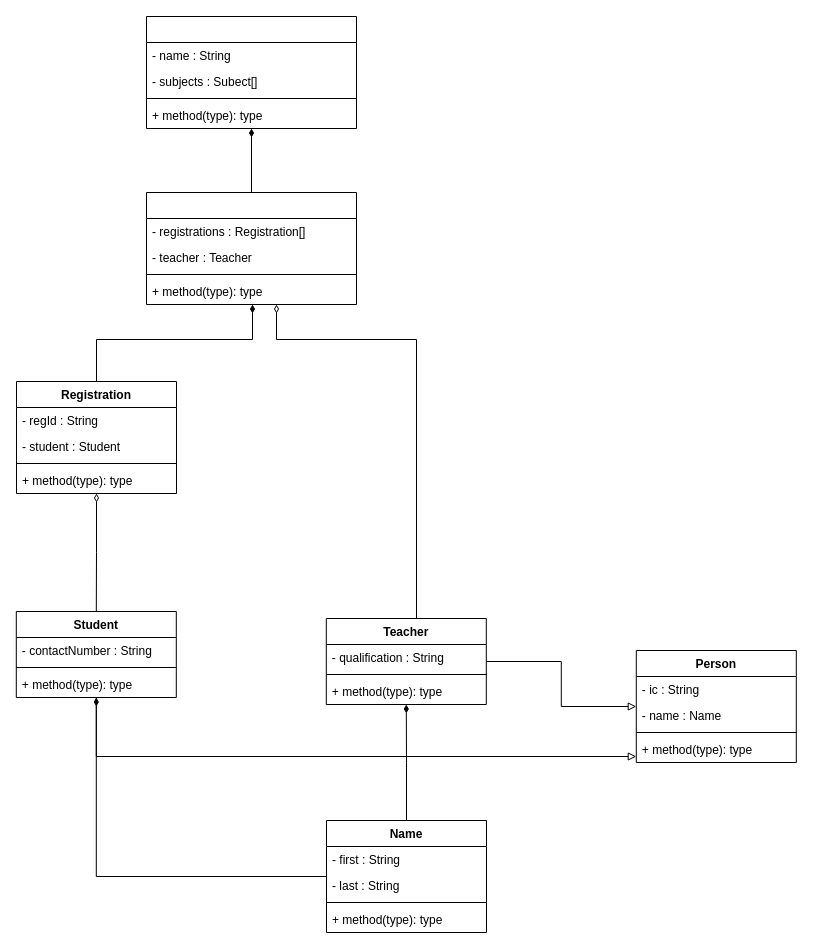
Some shapes in this 813 by 949 pixel diagram are drawn without their labels. Here are the shapes that lost their labels. From the top down, the box of each, then its label:
(146, 16, 356, 128): TuitionCenter
(146, 192, 356, 304): Subject
